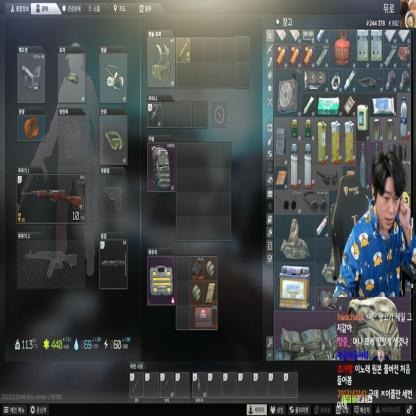streamer: (333, 152, 416, 296)
